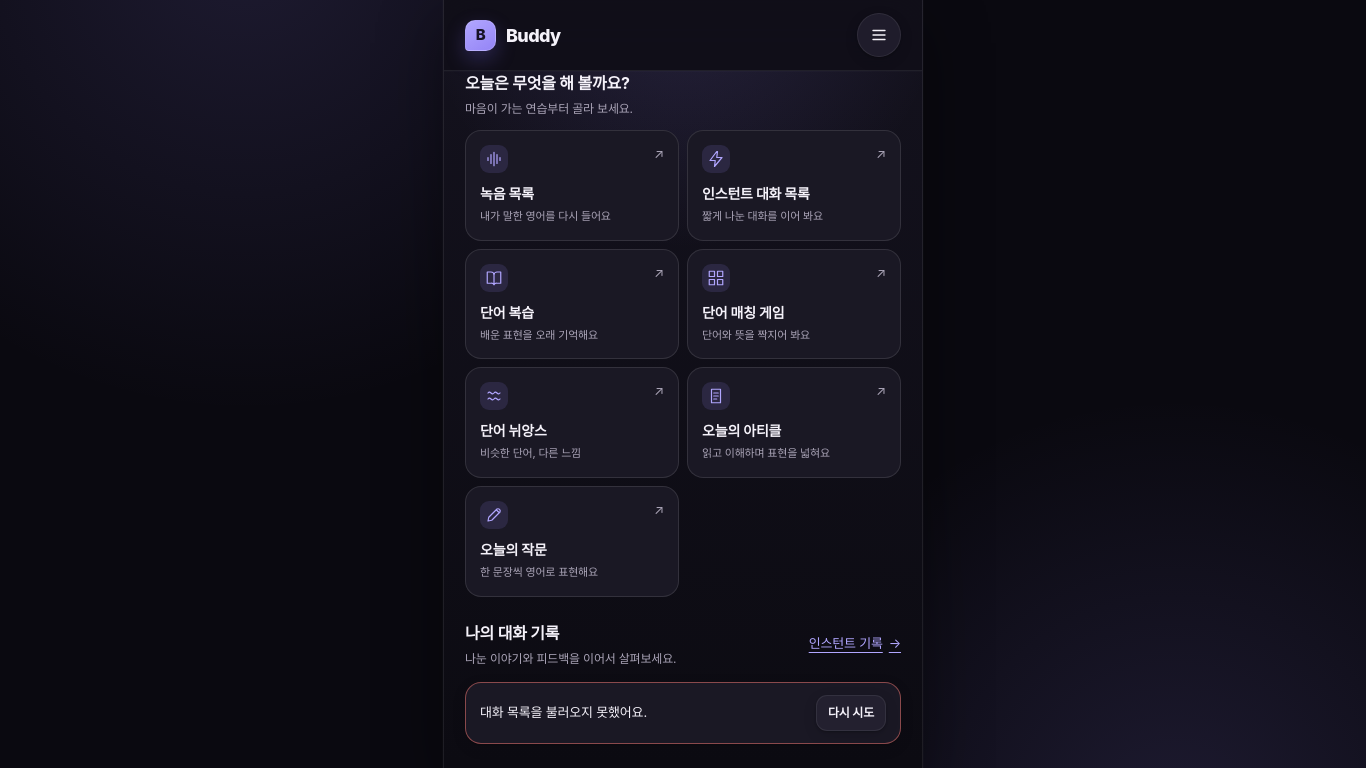
Test: room list › distinguishes a list-load failure from an empty list and retries in place
(page scrolled)
Expected: the message shows "대화 목록을 불러오지 못했어요", x1=480 y1=704 x2=647 y2=720
Click the button "다시 시도" at coordinates (851, 713), box x1=816 y1=695 x2=886 y2=731
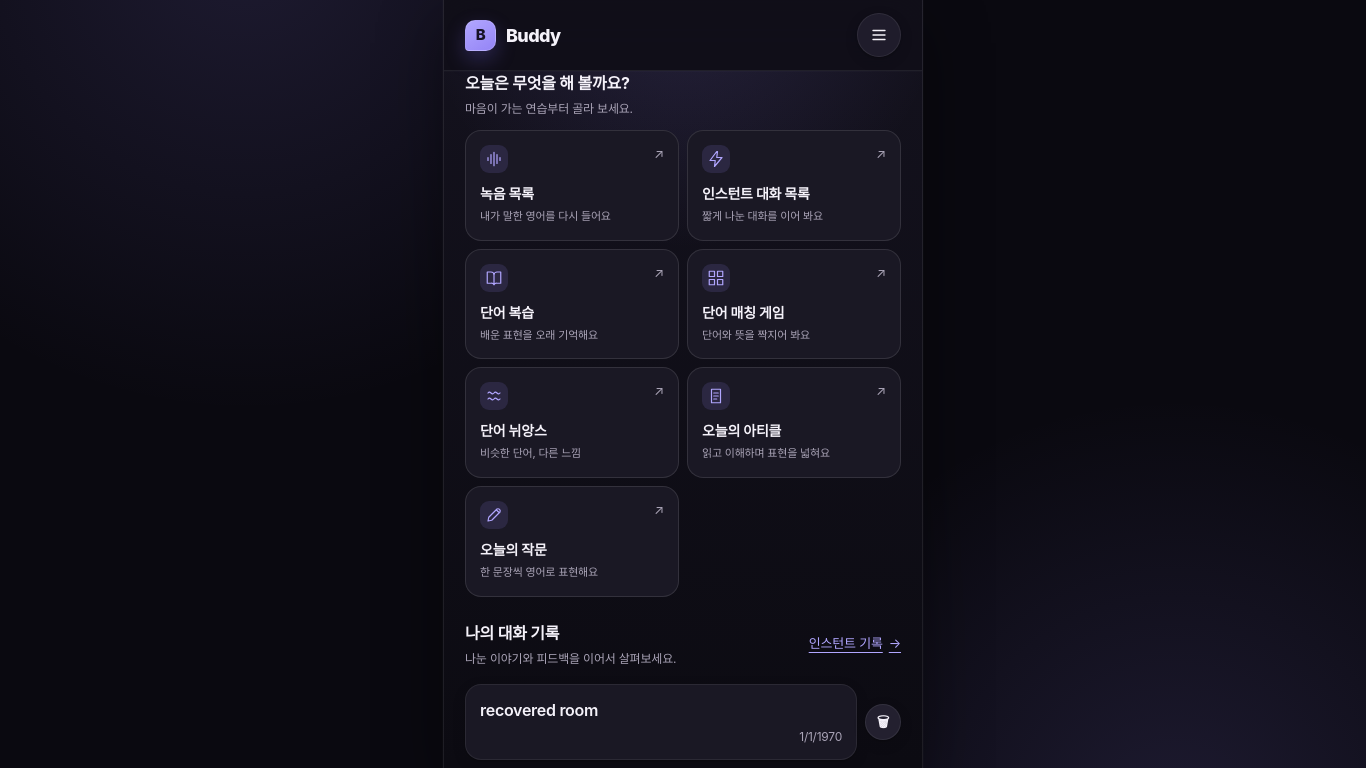
Result: the text "recovered room" is shown at x1=480 y1=700 x2=598 y2=720
Result: the message "대화 목록을 불러오지 못했어요. 다시 시도" is gone
